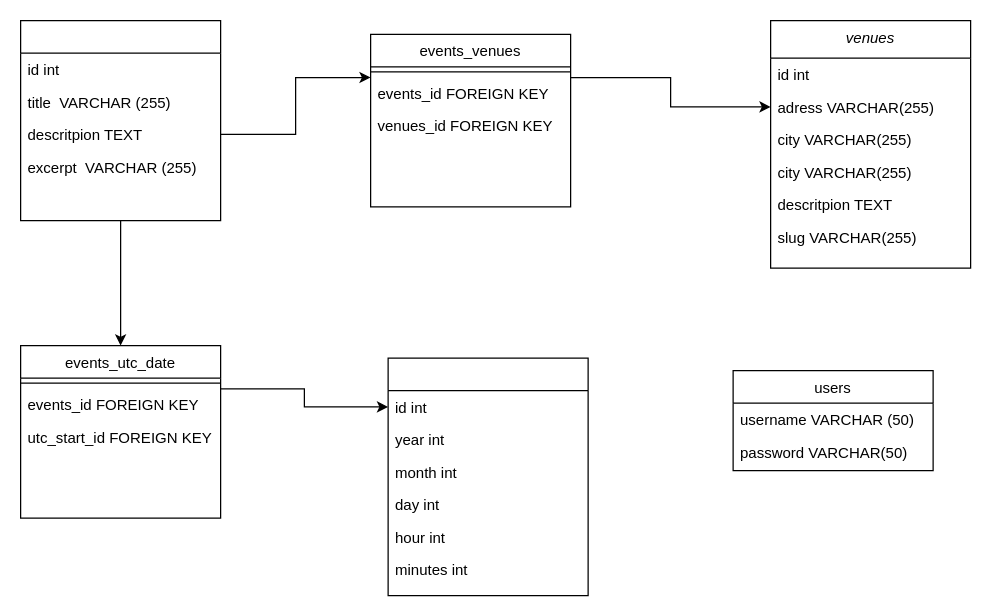
Some shapes in this 991 by 616 pixel diagram are drawn without their labels. The shapes that lost their labels are listed below. From the top down, each one's box as (x1, y1, x2, y2) in pixels, then its label:
(19, 19, 221, 221): events
(387, 357, 588, 596): utc_start_date
